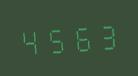five: (43, 21, 67, 56)
four: (18, 23, 42, 57)
six: (68, 20, 92, 54)
three: (93, 18, 117, 52)
